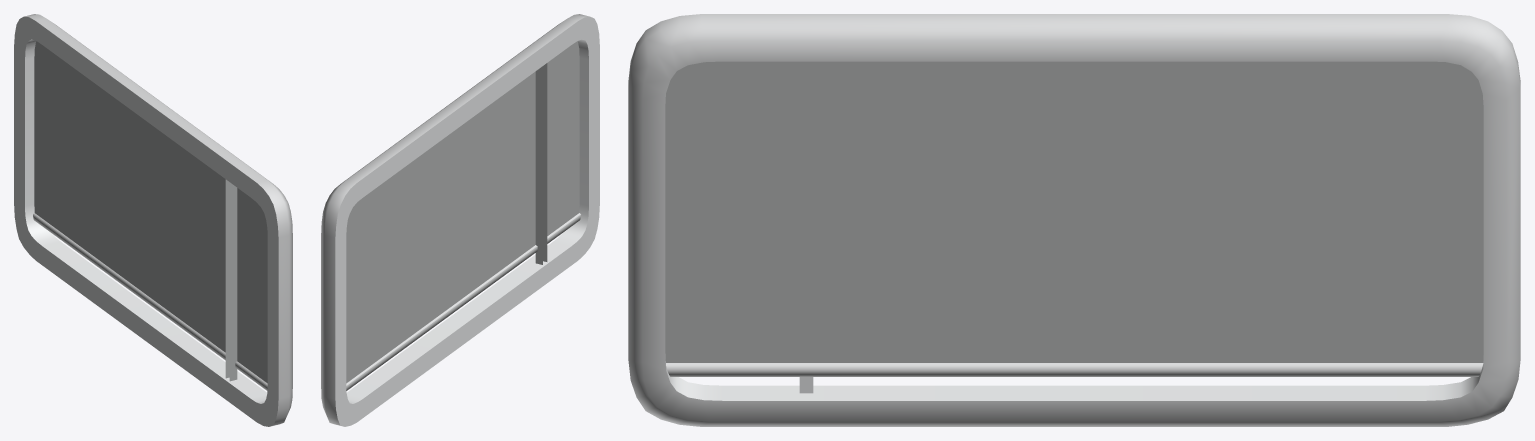
The model's file is M_BRchuang02.FBX.
3 views of the same model, side by side, from view 1: azimuth 30°, elevation 25°; view 2: azimuth 150°, elevation 25°; view 3: azimuth 270°, elevation 25° (orthographic). The views are drawn at different scales.
Visible parts, largest first — view 1: M_BRchuang02_01; view 2: M_BRchuang02_01; view 3: M_BRchuang02_01.
Part boxes in pixels (bbox=[...]): M_BRchuang02_01: bbox=[14, 14, 292, 426]; M_BRchuang02_01: bbox=[321, 14, 599, 426]; M_BRchuang02_01: bbox=[628, 14, 1520, 426].
Bounding box in the file's own units: 0.2388 × 2.96 × 5.91.
